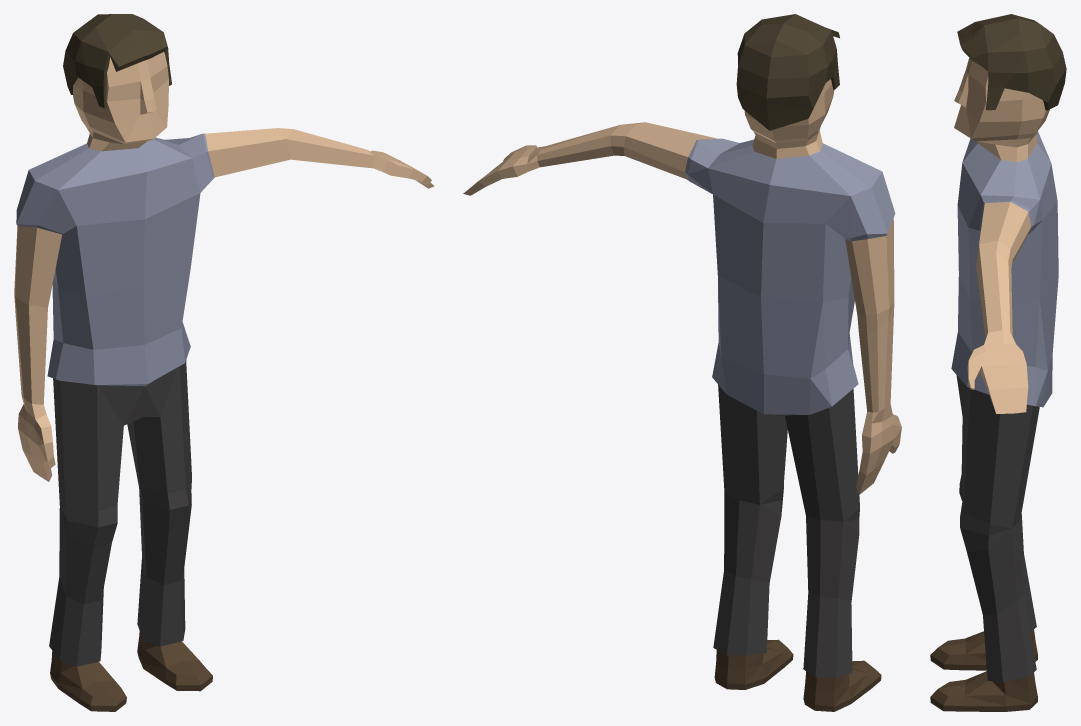
File: Male_Crowd_ArmAround.glb
3 views of the same model, side by side, from view 1: azimuth 30°, elevation 25°; view 2: azimuth 150°, elevation 25°; view 3: azimuth 270°, elevation 25° (orthographic). The views are drawn at different scales.
Visible parts, largest first — view 1: Male_Crowd_ArmAround; view 2: Male_Crowd_ArmAround; view 3: Male_Crowd_ArmAround.
Part boxes in pixels (x1,y1,x2,y2): Male_Crowd_ArmAround: (14,14,434,711); Male_Crowd_ArmAround: (463,14,901,711); Male_Crowd_ArmAround: (930,14,1066,711).
Size of the model in its own units: 1.18 by 1.8 by 0.3348.
